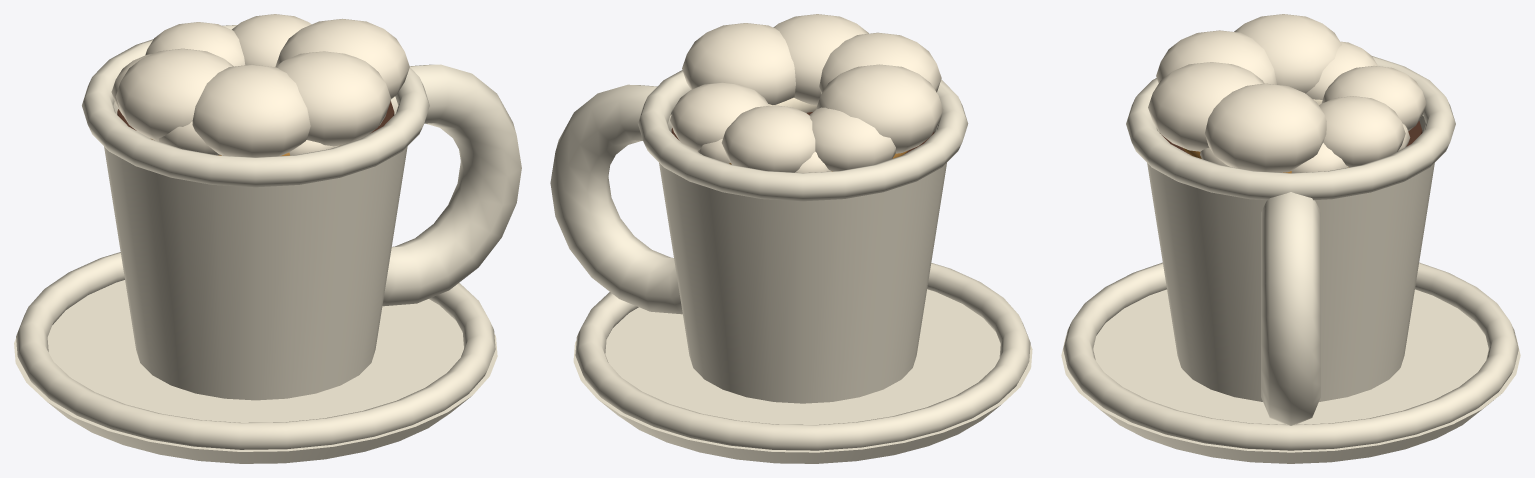
The model's file is cup.glb.
3 renders of one model, left to right at view 1: azimuth 30°, elevation 25°; view 2: azimuth 150°, elevation 25°; view 3: azimuth 270°, elevation 25°, orthographic. The views are drawn at different scales.
Visible parts, largest first — view 1: Ceramic, Foam; view 2: Ceramic, Foam; view 3: Ceramic, Foam.
Boxes of the visible parts, left/top/right/bottom form: Ceramic: left=14, top=25, right=521, bottom=463; Foam: left=111, top=14, right=409, bottom=157; Ceramic: left=550, top=70, right=1032, bottom=463; Foam: left=670, top=14, right=943, bottom=172; Ceramic: left=1061, top=56, right=1520, bottom=463; Foam: left=1148, top=14, right=1426, bottom=173.
Bounding box in the file's own units: 0.552 × 0.3757 × 0.49.
